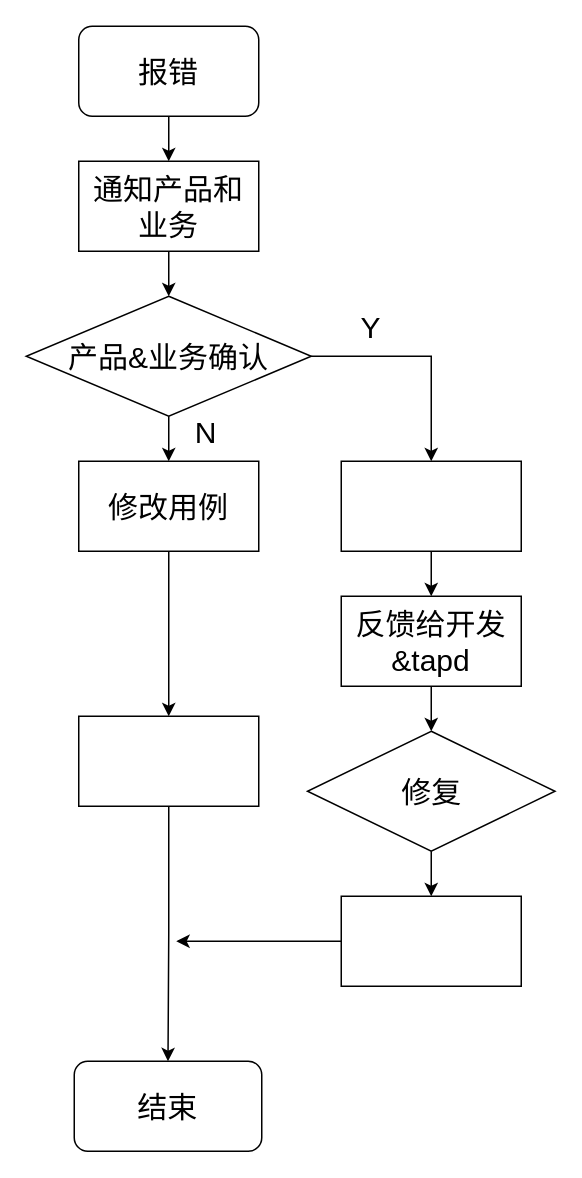
Image size: 582x1178. Some labels were removed from this diagram. The shapes that lost their labels are listed below. From the top down, each one's centre as x and y in pixels, then its label:
(x=430, y=505): 测试定位问题
(x=168, y=760): 测试&上传&回复邮件
(x=430, y=940): 关闭缺陷&回复邮件
